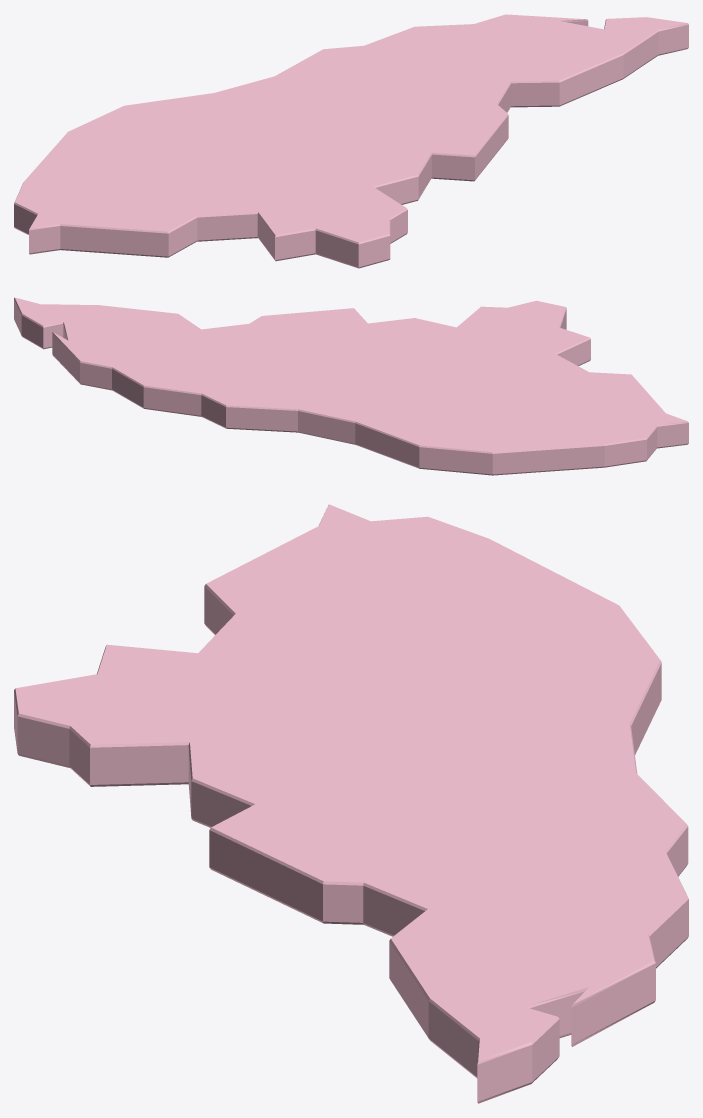
Rendered from HND.glb.
3 renders of one model, top to bottom at view 1: azimuth 30°, elevation 25°; view 2: azimuth 150°, elevation 25°; view 3: azimuth 270°, elevation 25°, orthographic. The views are drawn at different scales.
Bounding box in the file's own units: 1.93 × 0.068 × 0.985.
